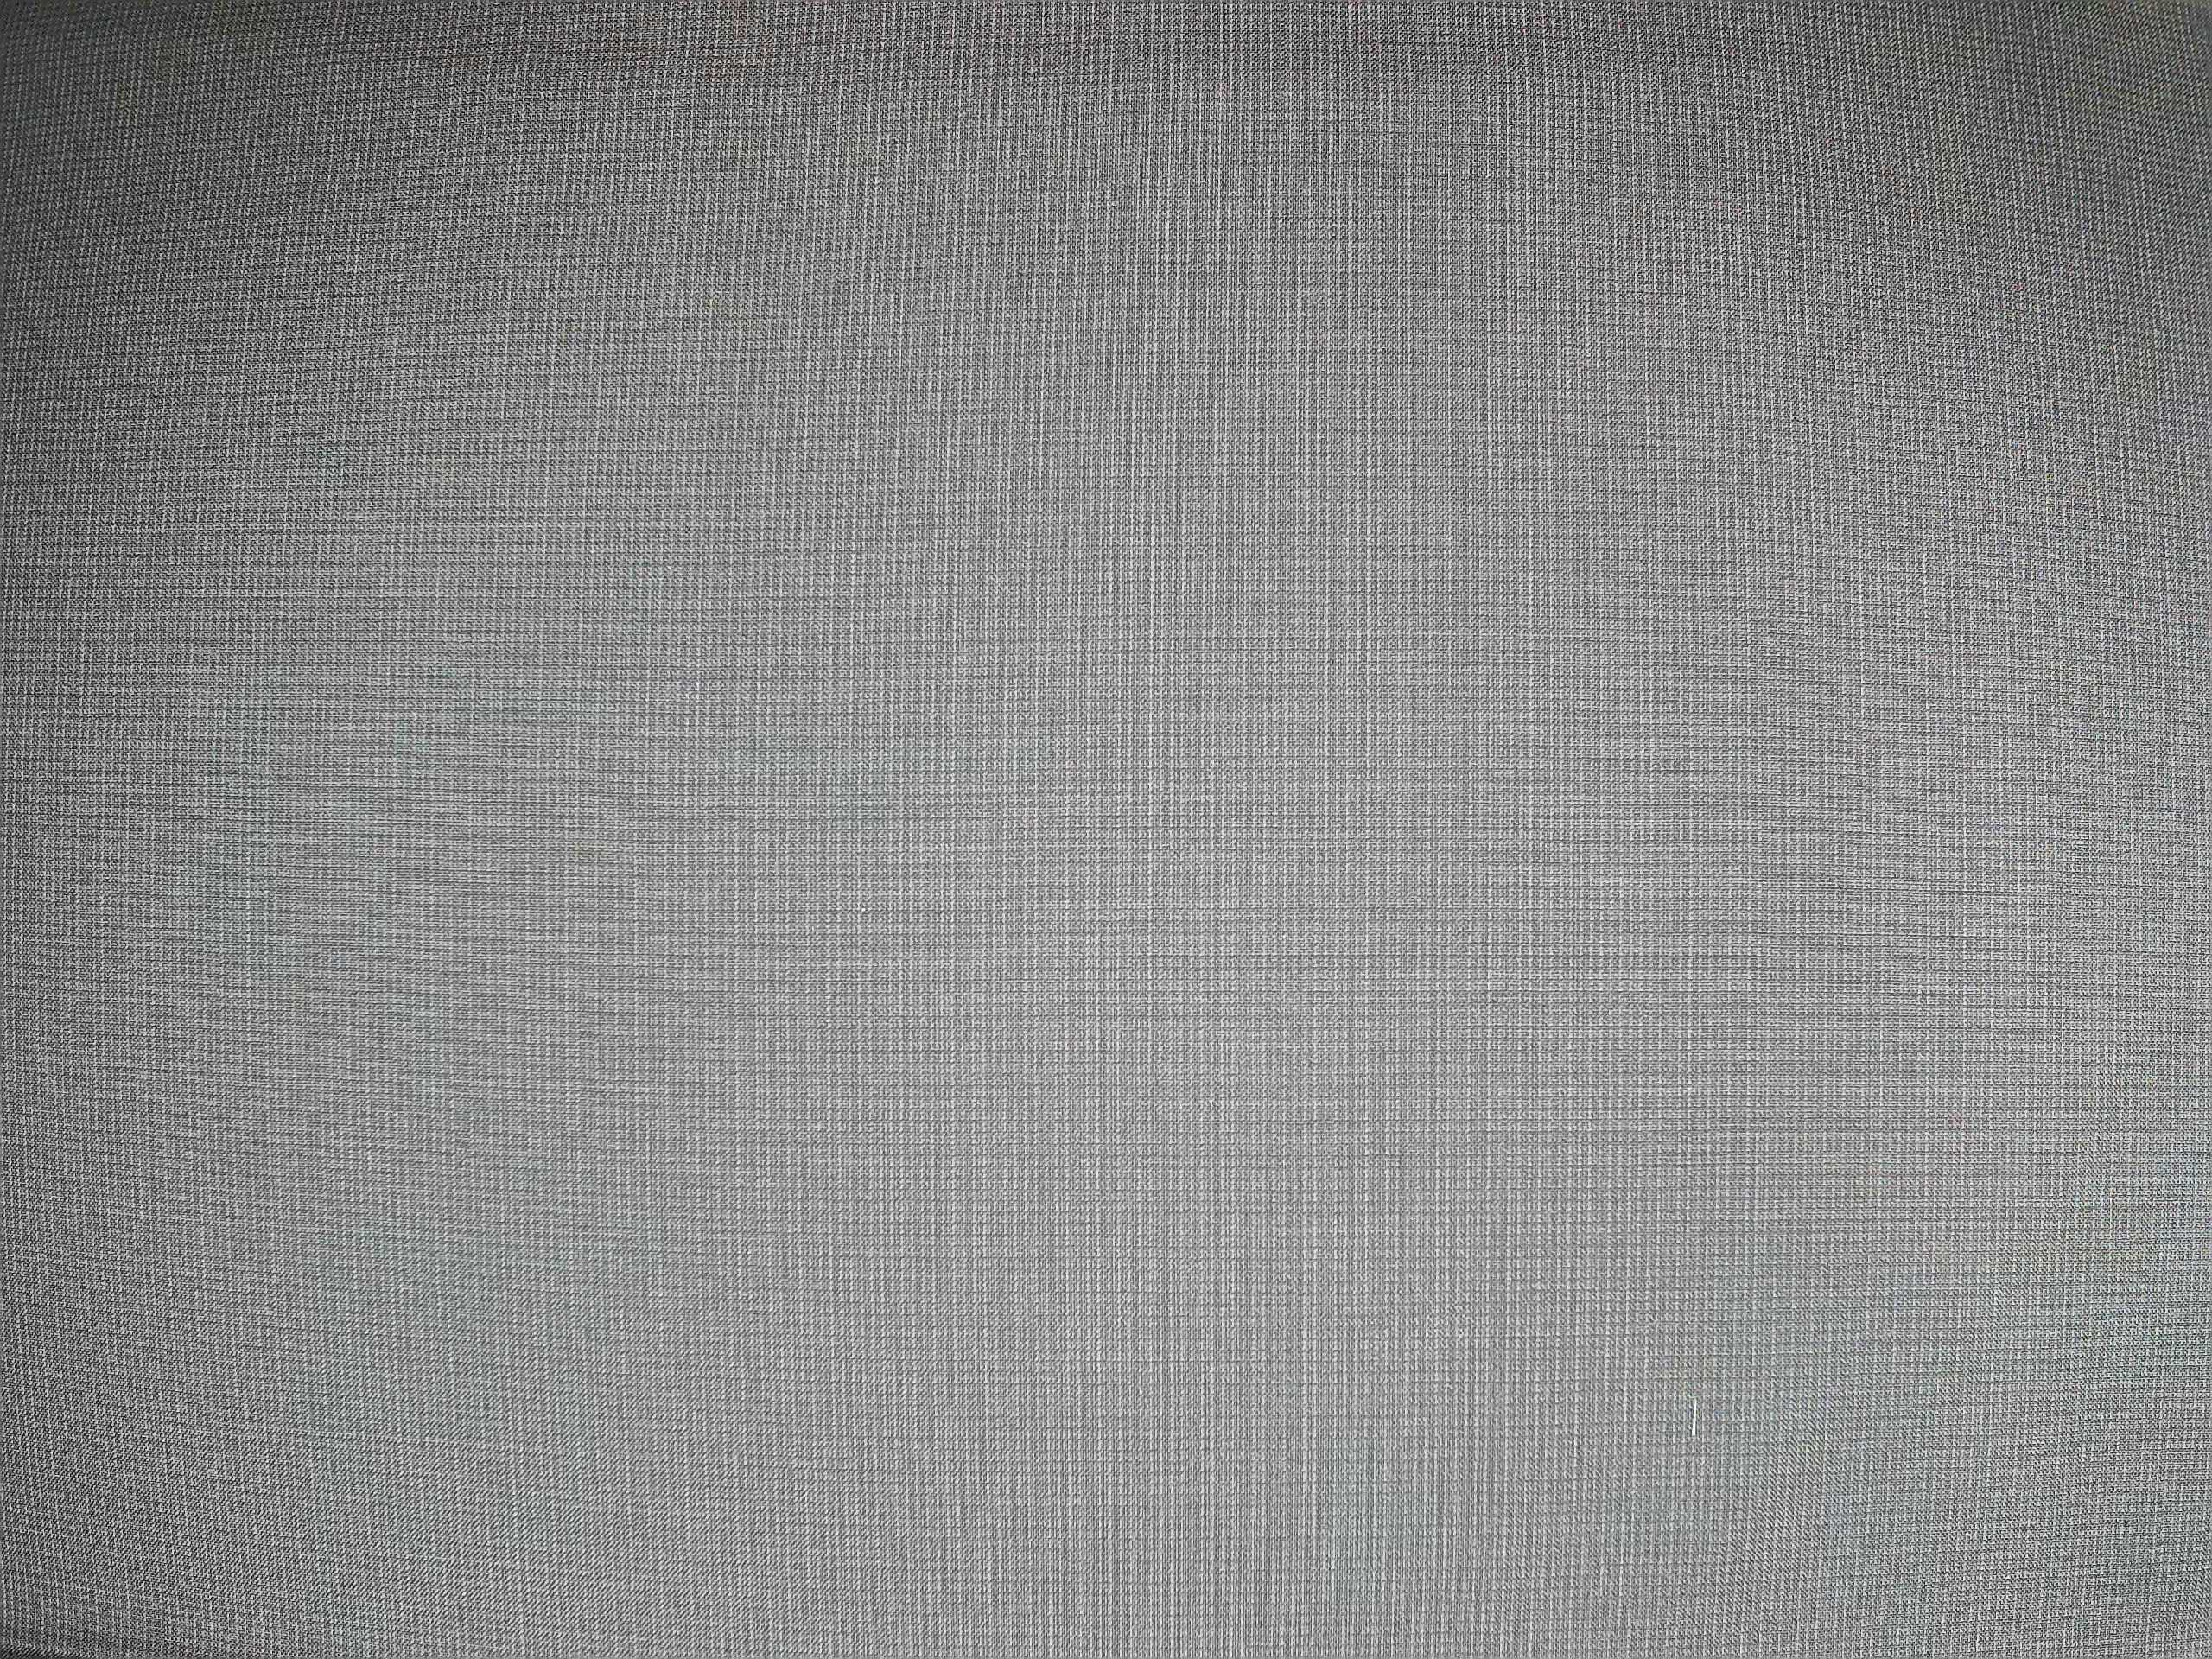jumps: (1676, 1385, 1716, 1448)
